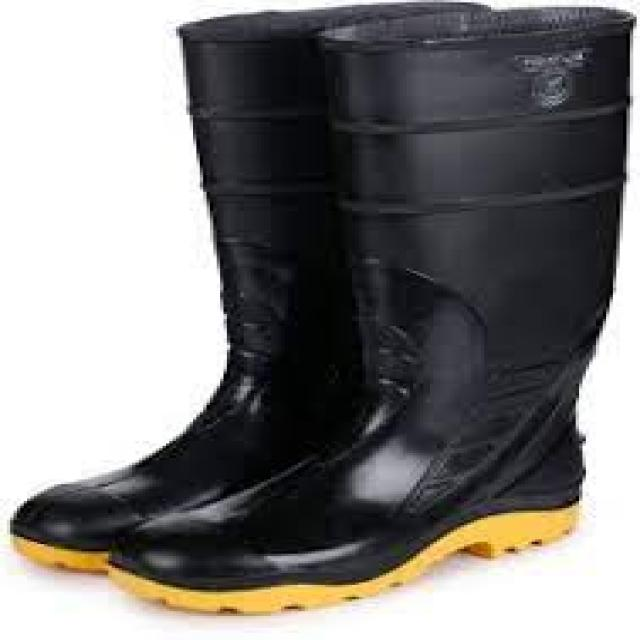shoes: (11, 4, 634, 612)
